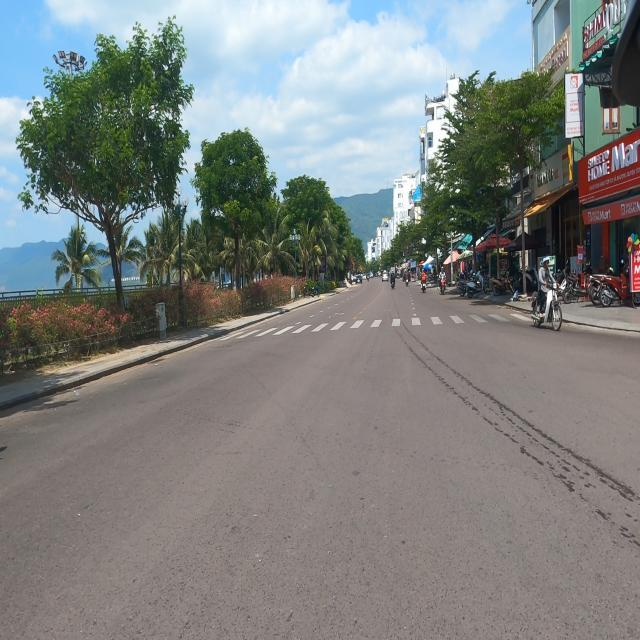walk-crossing: (218, 310, 542, 344)
